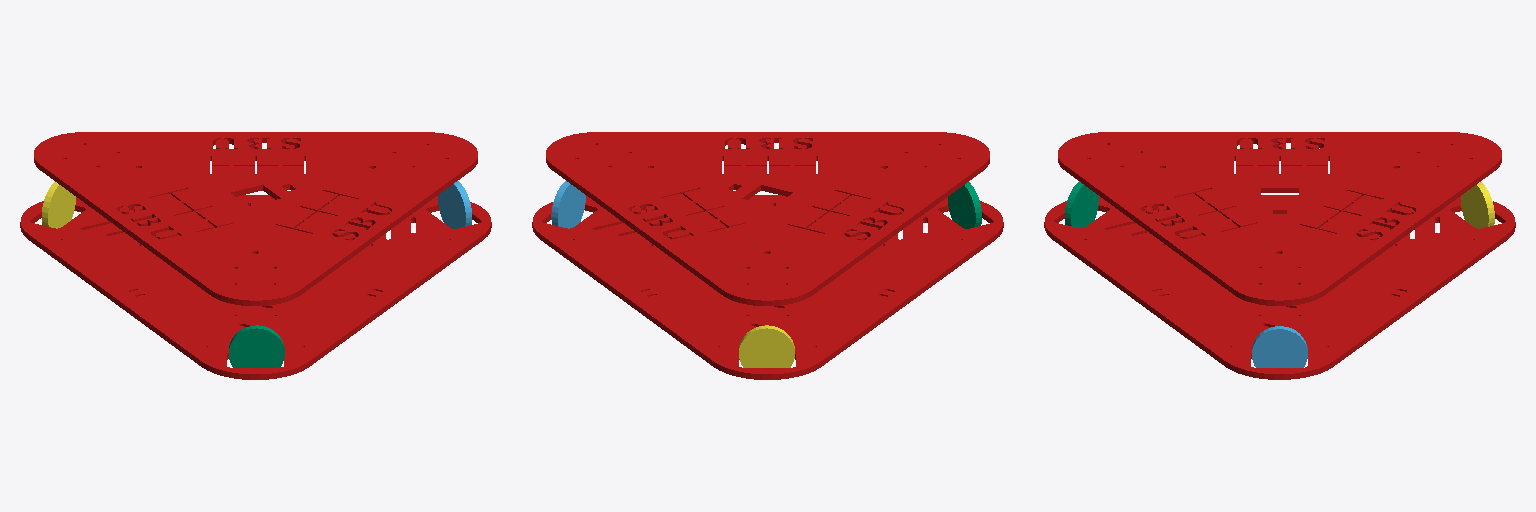
robot.urdf — robot:
<?xml version="1.0"?>
<robot name="robot" xmlns:xacro="http://www.ros.org/wiki/xacro">
  <material name="black">
    <color rgba="0.0 0.0 0.0 1.0"/>
  </material>
  <material name="blue">
    <color rgba="0.203125 0.23828125 0.28515625 1.0"/>
  </material>
  <material name="green">
    <color rgba="0.0 0.8 0.0 1.0"/>
  </material>
  <material name="grey">
    <color rgba="0.2 0.2 0.2 1.0"/>
  </material>
  <material name="orange">
    <color rgba="1.0 0.423529411765 0.0392156862745 1.0"/>
  </material>
  <material name="brown">
    <color rgba="0.870588235294 0.811764705882 0.764705882353 1.0"/>
  </material>
  <material name="red">
    <color rgba="0.80078125 0.12890625 0.1328125 1.0"/>
  </material>
  <material name="white">
    <color rgba="1.0 1.0 1.0 1.0"/>
  </material>
  
    <gazebo reference="link_chassis">
    <material>Gazebo/Orange</material>
  </gazebo>
  <gazebo reference="link_left_wheel">
    <material>Gazebo/Green</material>
  </gazebo>
  <gazebo reference="link_right_wheel">
    <material>Gazebo/Green</material>
  </gazebo>
  <gazebo reference="link_left2_wheel">
    <material>Gazebo/Green</material>
  </gazebo>
  
  <gazebo>
  <plugin name="gazebo_ros_control" filename="libgazebo_ros_control.so">
  <robotNamespace>/robot</robotNamespace> 
  </plugin>
</gazebo>
  
  <gazebo>
    <plugin filename="libgazebo_ros_diff_drive.so" name="differential_drive_controller">
      <alwaysOn>true</alwaysOn>
      <updateRate>20</updateRate>
      <leftJoint>joint_left_wheel</leftJoint>
      <rightJoint>joint_right_wheel</rightJoint>
      <wheelSeparation>0.4</wheelSeparation>
      <wheelDiameter>0.2</wheelDiameter>
      <torque>0.1</torque>
      <commandTopic>cmd_vel</commandTopic>
      <odometryTopic>odom</odometryTopic>
      <odometryFrame>odom</odometryFrame>
      <robotBaseFrame>link_chassis</robotBaseFrame>
    </plugin>
  </gazebo>
  
  <gazebo reference="sensor_laser">
    <sensor type="ray" name="head_hokuyo_sensor">
      <pose>0 0 0 0 0 0</pose>
      <visualize>false</visualize>
      <update_rate>20</update_rate>
      <ray>
        <scan>
          <horizontal>
            <samples>720</samples>
            <resolution>1</resolution>
            <min_angle>-1.570796</min_angle>
            <max_angle>1.570796</max_angle>
          </horizontal>
        </scan>
        <range>
          <min>0.10</min>
          <max>10.0</max>
          <resolution>0.01</resolution>
        </range>
        <noise>
          <type>gaussian</type>
          <mean>0.0</mean>
          <stddev>0.01</stddev>
        </noise>
      </ray>
      <plugin name="gazebo_ros_head_hokuyo_controller" filename="libgazebo_ros_laser.so">
        <topicName>/m2wr/laser/scan</topicName>
        <frameName>sensor_laser</frameName>
      </plugin>
    </sensor>
  </gazebo>
  

<link name="base_link">
    <inertial>
      <mass value="20"/>
      <origin xyz="0 0 0.52" rpy="0 0 3.14"/>
      <inertia ixx="1.392949" ixy="0" ixz="-0.000108" iyy="1.392846" iyz="-0.000000" izz="-1.000000"/>
    </inertial>
	<visual>
	<origin xyz="0 0 0.52" rpy="0 0 3.14"/>
	<geometry>
        <mesh filename="package://rob_pkg/meshes/two_plate.dae"/>
      </geometry>
      <material name="red"/>
    </visual>
    <collision >
	<origin xyz="0 0 0.52" rpy="0 0 3.14"/>
      <geometry>
        <mesh filename="package://rob_pkg/meshes/two_plate.dae"/>
      </geometry>
    </collision>

  </link>

  

    <link name="link_right_wheel">
    <inertial>
      <mass value="2.2"/>
      <origin rpy="0 1.570700 0" xyz="2.195 0 0.27"/>
    <inertia ixx="0.4" ixy="0.0" ixz="0.0" iyy="0.4" iyz="0.0" izz="0.2"/>
    </inertial>
    <collision name="link_right_wheel_collision">
	<geometry>
	 <cylinder length=".07" radius=".27" />
	</geometry>
    </collision>
    <visual name="link_right_wheel_visual">
	
	<geometry>
	 <cylinder length="0.07" radius="0.27" />
	</geometry>
    </visual>
  </link>


  <joint name="joint_right_wheel" type="continuous">
	<origin rpy="0 1.570700 0" xyz="2.195 0 0.27"/>
    <child link="link_right_wheel"/>
    <parent link="base_link"/>
    <axis rpy="0 0 0" xyz="0 0 1"/>
  </joint>

<!-- Rear wheels transmission -->
<transmission name="transmission_right_wheel">
    <type>transmission_interface/SimpleTransmission</type>
    <joint name="joint_right_wheel">
        <hardwareInterface>hardware_interface/EffortJointInterface</hardwareInterface>
    </joint>
    <actuator name="motor_right_wheel">
        <hardwareInterface>hardware_interface/EffortJointInterface</hardwareInterface>
        <mechanicalReduction>1</mechanicalReduction>
    </actuator>
</transmission>





    <link name="link_left_wheel">
    <inertial>
      <mass value="2.2"/>
      <origin rpy="0 1.570700 1.0472" xyz="-1.10000 -1.9 0.27"/>
      <inertia ixx="0.4" ixy="0.0" ixz="0.0" iyy="0.4" iyz="0.0" izz="0.2"/>
    </inertial>
    <collision name="link_left_wheel_collision">
	<geometry>
	 <cylinder length=".07" radius=".27" />
	</geometry>
    </collision>
    <visual name="link_left_wheel_visual">
	<geometry>
	 <cylinder length="0.07" radius="0.27" />
	</geometry>
    </visual>
  </link>


  <joint name="joint_left_wheel" type="continuous">
  <origin rpy="0 1.570700 1.0472" xyz="-1.10000 -1.9 0.27"/>
    <child link="link_left_wheel"/>
    <parent link="base_link"/>
    <axis rpy="0 0 0" xyz="0 0 1"/>
  </joint>



    <link name="link_left2_wheel">
    <inertial>
      <mass value="2.2"/>
      <origin rpy="0 1.570700 2.0944" xyz="-1.10000 1.9 0.27"/>
     <inertia ixx="0.4" ixy="0.0" ixz="0.0" iyy="0.4" iyz="0.0" izz="0.2"/>
    </inertial>
    <collision name="link_left2_wheel_collision">
	<geometry>
	 <cylinder length=".07" radius=".27" />
	</geometry>
    </collision>
    <visual name="link_left2_wheel_visual">
	<geometry>
	 <cylinder length="0.07" radius="0.27" />
	</geometry>
    </visual>
  </link>


  <joint name="joint_left2_wheel" type="continuous">
  <origin rpy="0 1.570700 2.0944" xyz="-1.10000 1.9 0.27"/>
    <child link="link_left2_wheel"/>
    <parent link="base_link"/>
    <axis rpy="0 0 0" xyz="0 0 1"/>
  </joint>



  
  
</robot>

--- Render facts (derived) ---
Views: 3 orthographic renders of the robot side by side, from view 1: azimuth 30°, elevation 25°; view 2: azimuth 150°, elevation 25°; view 3: azimuth 270°, elevation 25°.
Model robot with 4 links and 3 joints (3 continuous), rooted at base_link, posed all joints at 0.
Links seen in each view (by area): view 1: base_link, link_left_wheel, link_right_wheel, link_left2_wheel; view 2: base_link, link_left2_wheel, link_right_wheel, link_left_wheel; view 3: base_link, link_right_wheel, link_left2_wheel, link_left_wheel.
Link boxes in pixels (x1,y1,x2,y2): base_link: (20, 132, 491, 379); link_left_wheel: (229, 325, 284, 367); link_right_wheel: (438, 181, 471, 228); link_left2_wheel: (42, 182, 75, 228); base_link: (532, 132, 1003, 379); link_left2_wheel: (739, 325, 794, 367); link_right_wheel: (551, 181, 585, 228); link_left_wheel: (948, 182, 981, 228); base_link: (1044, 132, 1515, 379); link_right_wheel: (1252, 326, 1307, 367); link_left2_wheel: (1461, 182, 1494, 228); link_left_wheel: (1065, 181, 1098, 227).
Bounding box of the posed robot: 4.08 × 4.52 × 0.9094 m (x, y, z).
Meshes: 1 distinct files referenced, 1 mesh visuals loaded (1 Collada DAE).
